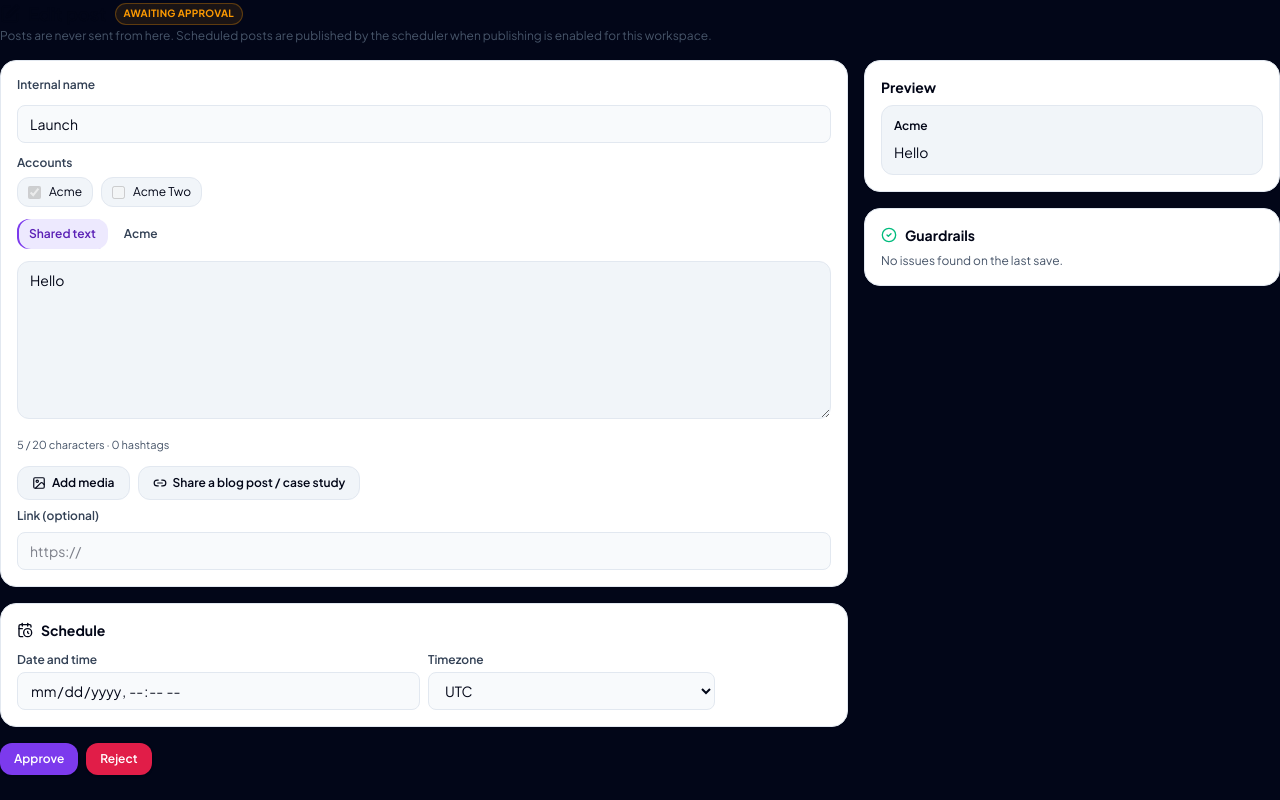
Test: SocialComposerPage › locks editing while awaiting approval; approvers can approve or reject with a comment
Expected: the text "Awaiting approval" is shown, x1=114 y1=3 x2=243 y2=25
Expected: the text box named "Post text" is disabled, x1=17 y1=261 x2=831 y2=419
Click the button "Reject" at (119, 758), box x1=86 y1=742 x2=152 y2=774
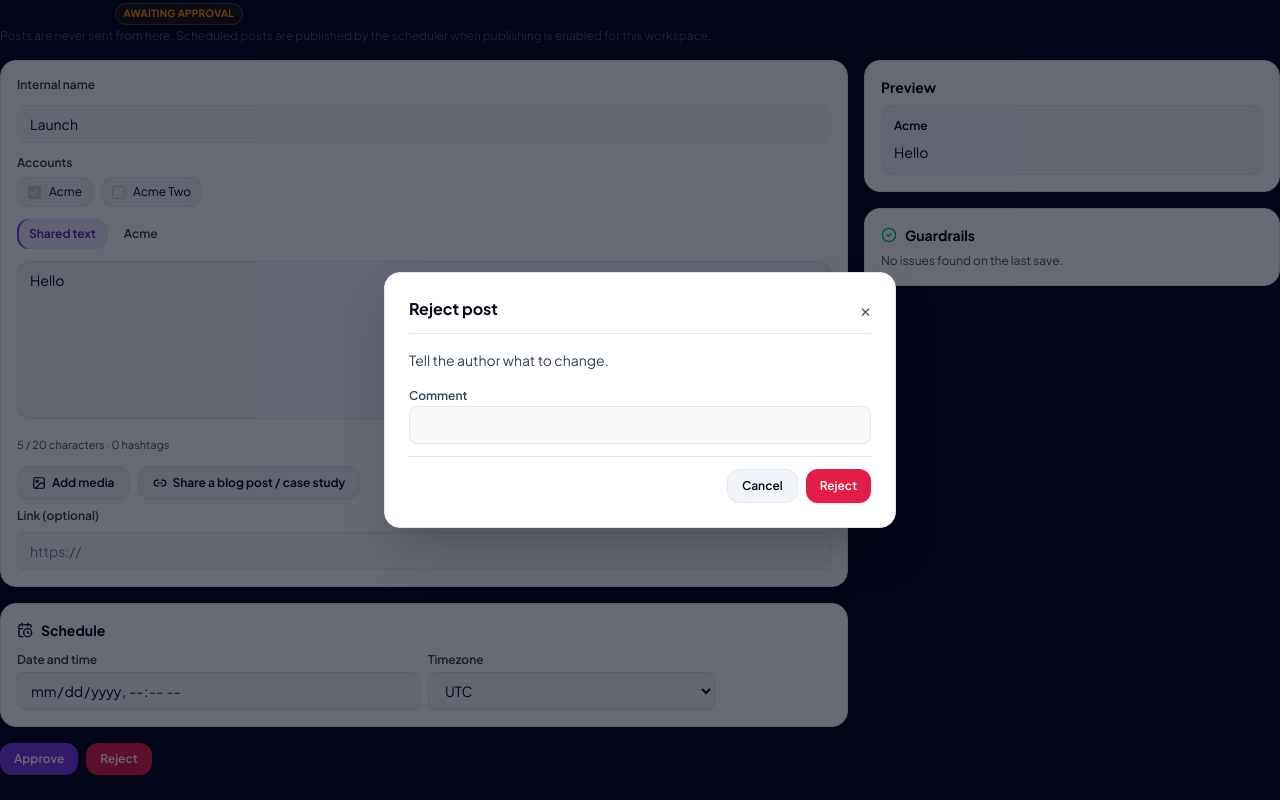
Type "Tone" into the field labelled "Comment" at (640, 425), box x1=409 y1=406 x2=871 y2=444
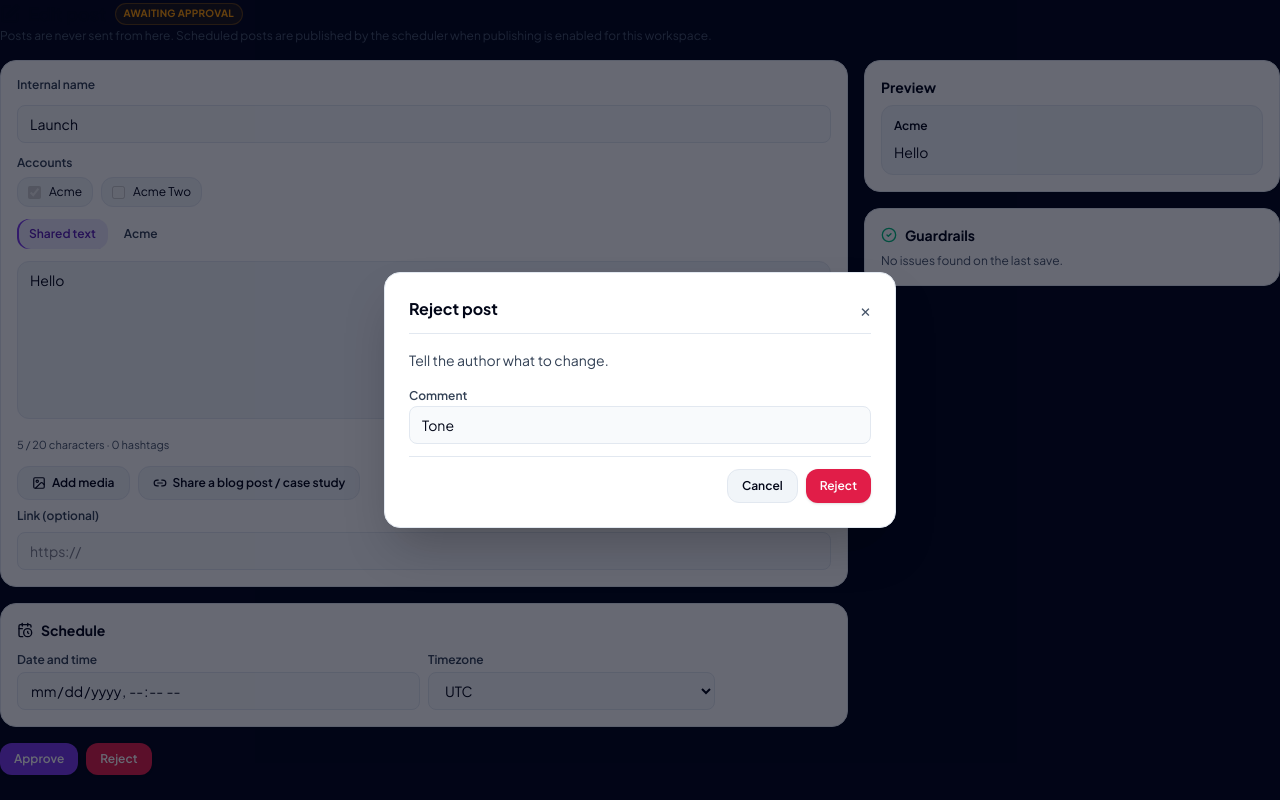
Click the button "Reject" at (838, 486), box x1=806 y1=469 x2=871 y2=503
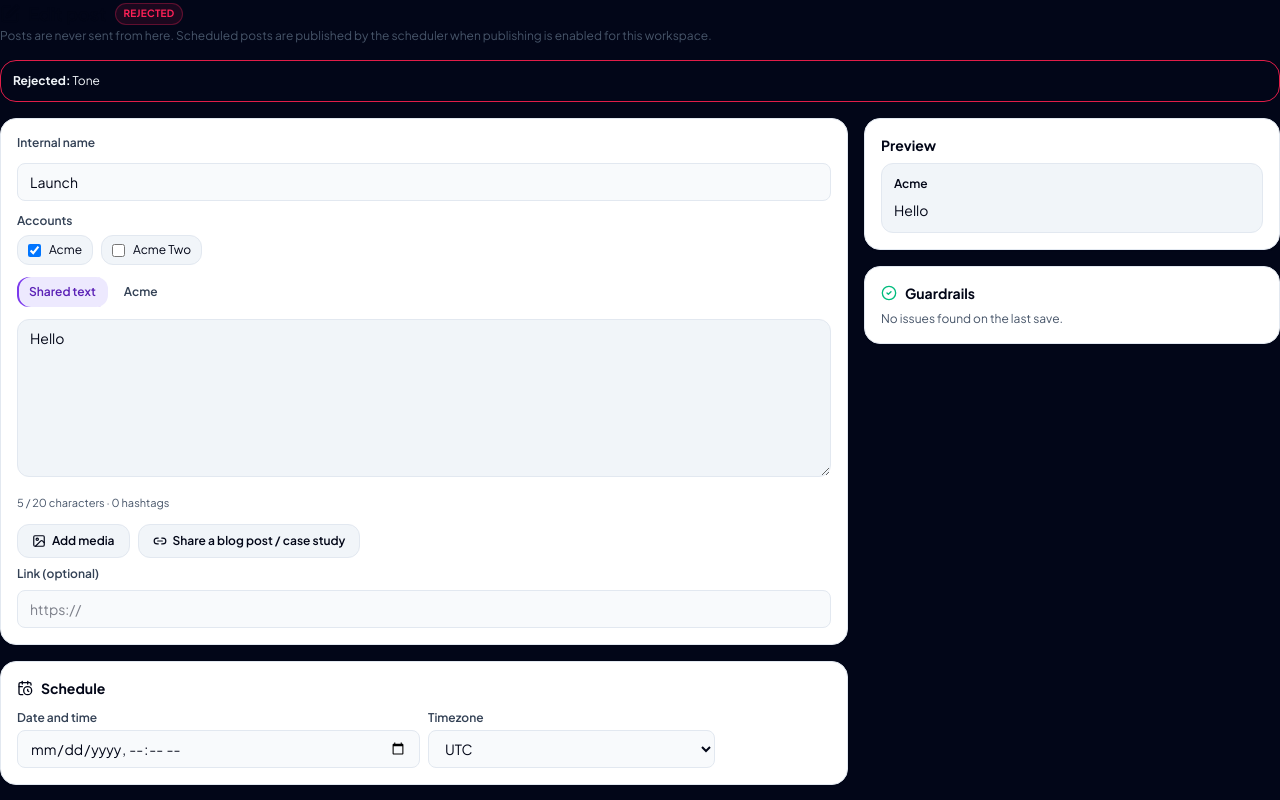
Result: the message reads "Rejected: Tone" at x1=0 y1=60 x2=1279 y2=102
